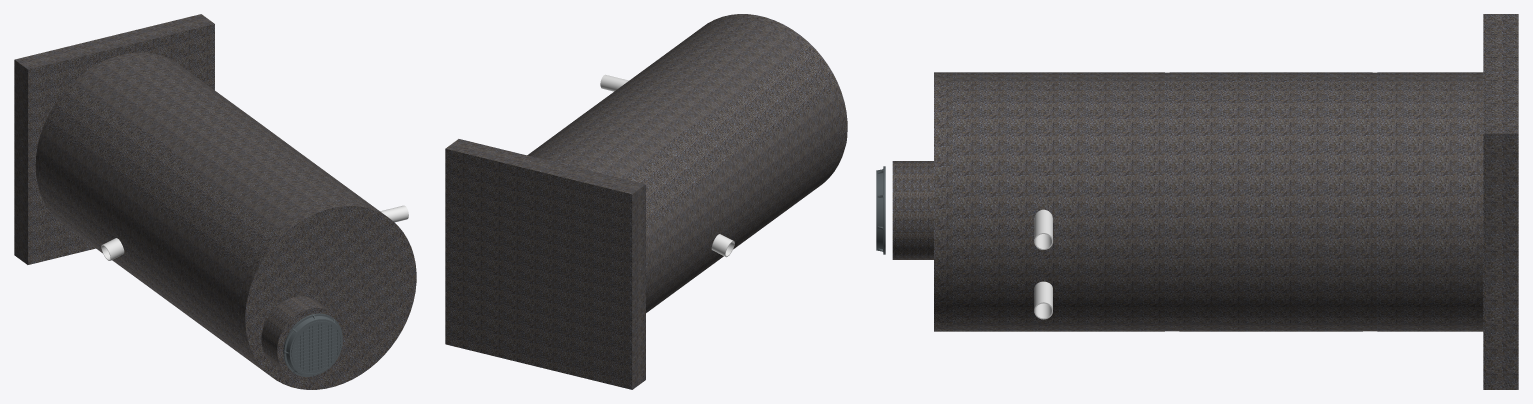
Rendered from ECOWARD-KHC-2000-5150_conc.glb.
3 renders of one model, left to right at view 1: azimuth 30°, elevation 25°; view 2: azimuth 150°, elevation 25°; view 3: azimuth 270°, elevation 25°, orthographic. The views are drawn at different scales.
Parts seen in each view (by area): view 1: Твердое тело1 (×13), Solid1; view 2: Твердое тело1 (×7), Solid1; view 3: Твердое тело1 (×13), Solid1 (×2).
Boxes of the visible parts, <box> form: Твердое тело1 (×13): <box>14,14,416,389</box>; Solid1: <box>101,238,124,260</box>; Твердое тело1 (×7): <box>445,14,847,389</box>; Solid1: <box>711,234,734,257</box>; Твердое тело1 (×13): <box>876,14,1518,389</box>; Solid1 (×2): <box>1034,209,1052,319</box>.
Bounding box in the file's own units: 2.75 × 2.4 × 5.45.
12 materials, 1 textured.
